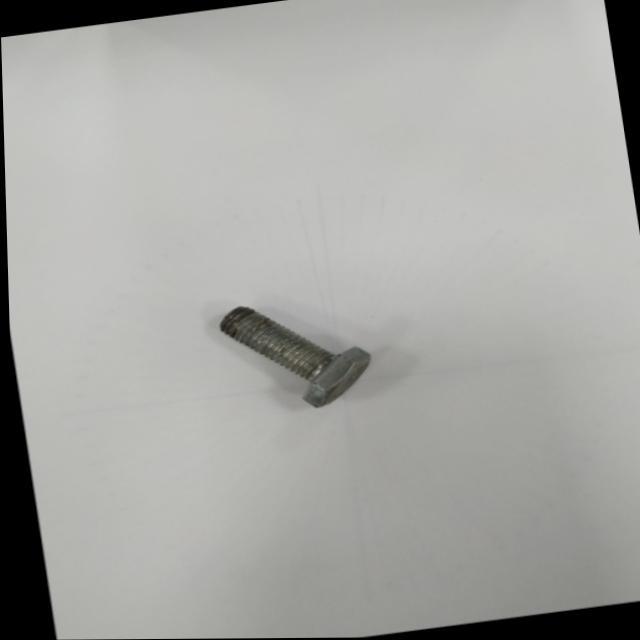Bolt: (219, 307, 368, 407)
